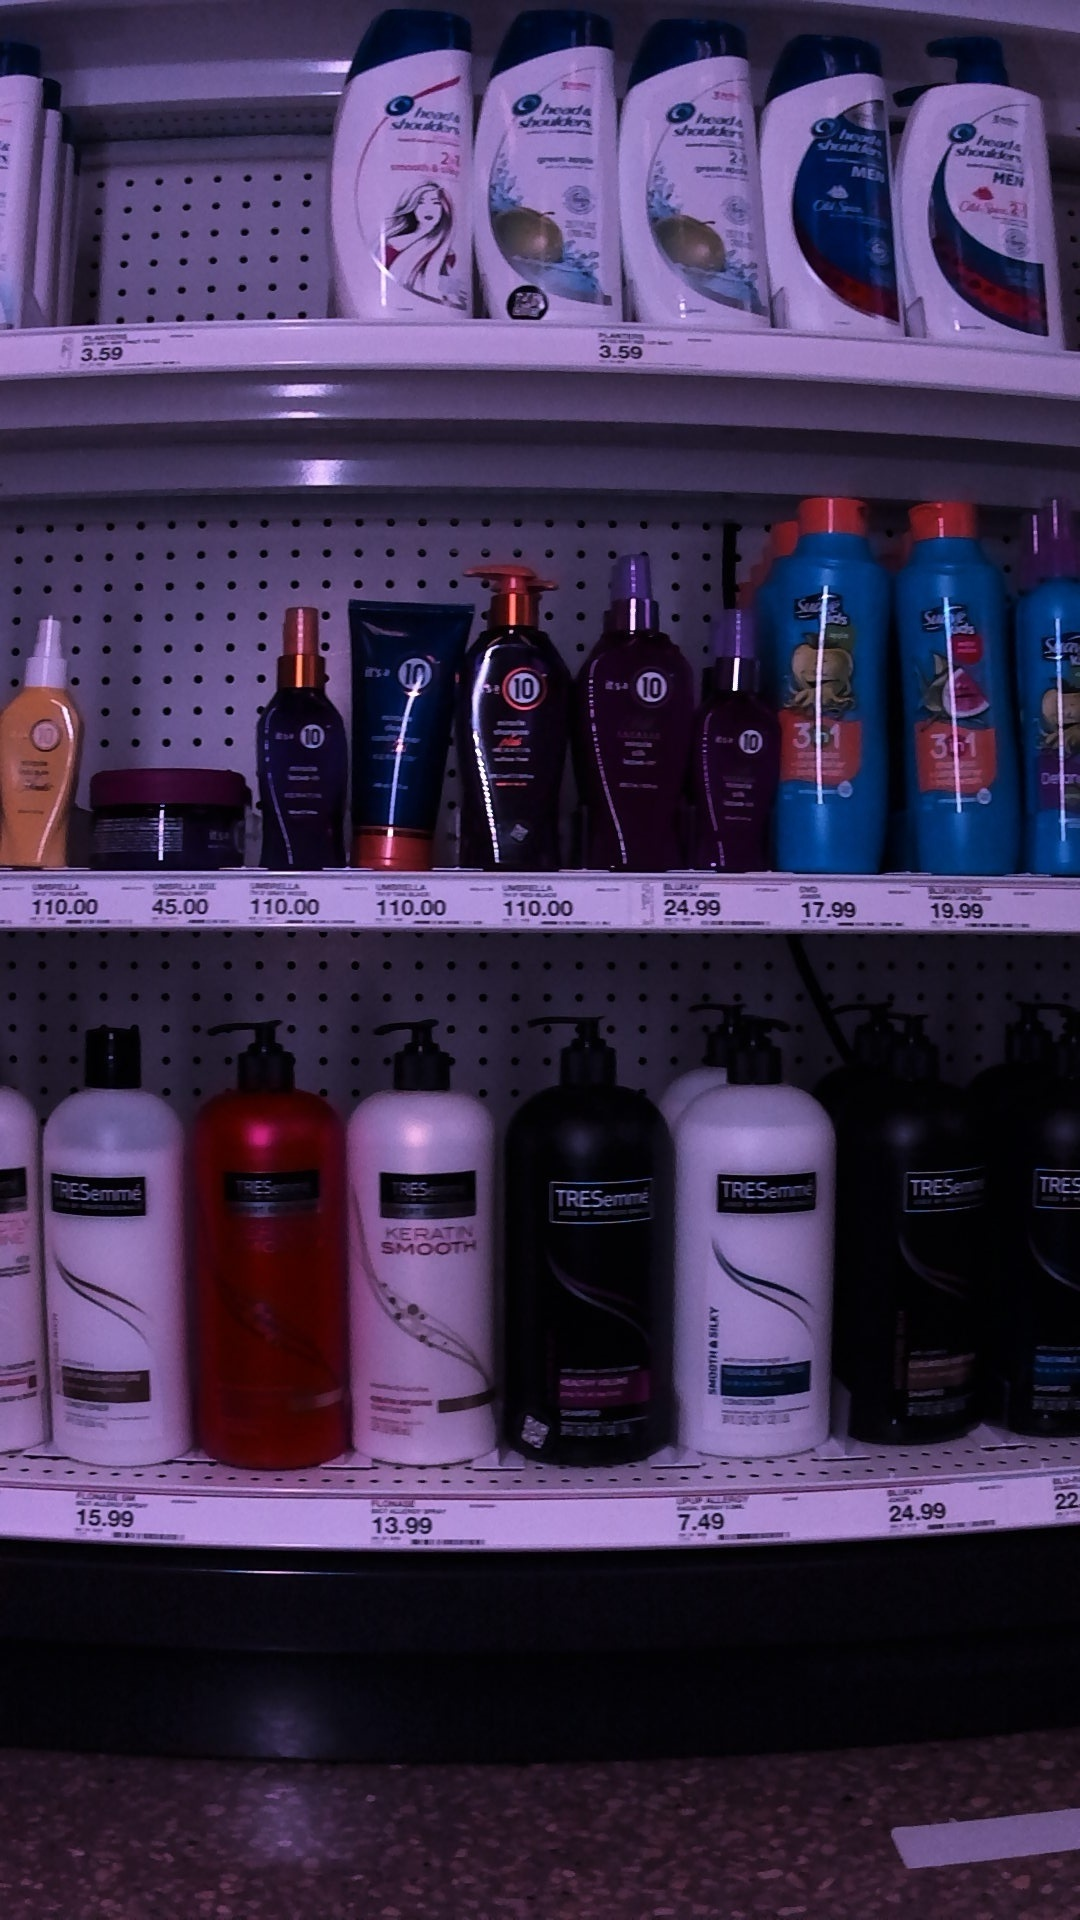ptag: (658, 1489, 814, 1555), (353, 1493, 498, 1560), (876, 1473, 1000, 1544), (61, 1489, 204, 1549), (585, 316, 715, 382), (489, 877, 622, 940), (920, 876, 1042, 942), (61, 324, 198, 380), (658, 876, 769, 944), (791, 872, 902, 940), (251, 872, 353, 935), (24, 873, 124, 938), (373, 877, 471, 940), (149, 869, 229, 944)
